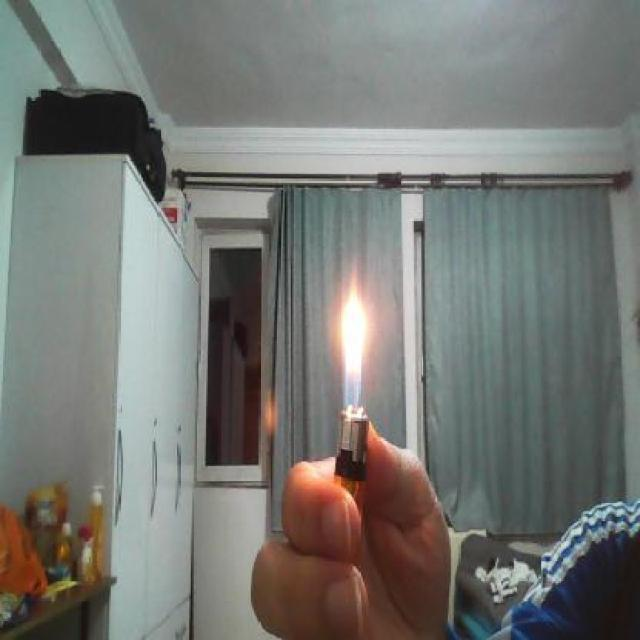Fire: (332, 270, 384, 400)
